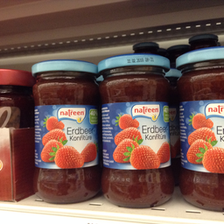jam: (97, 54, 176, 209), (31, 59, 103, 204), (175, 45, 224, 213)
